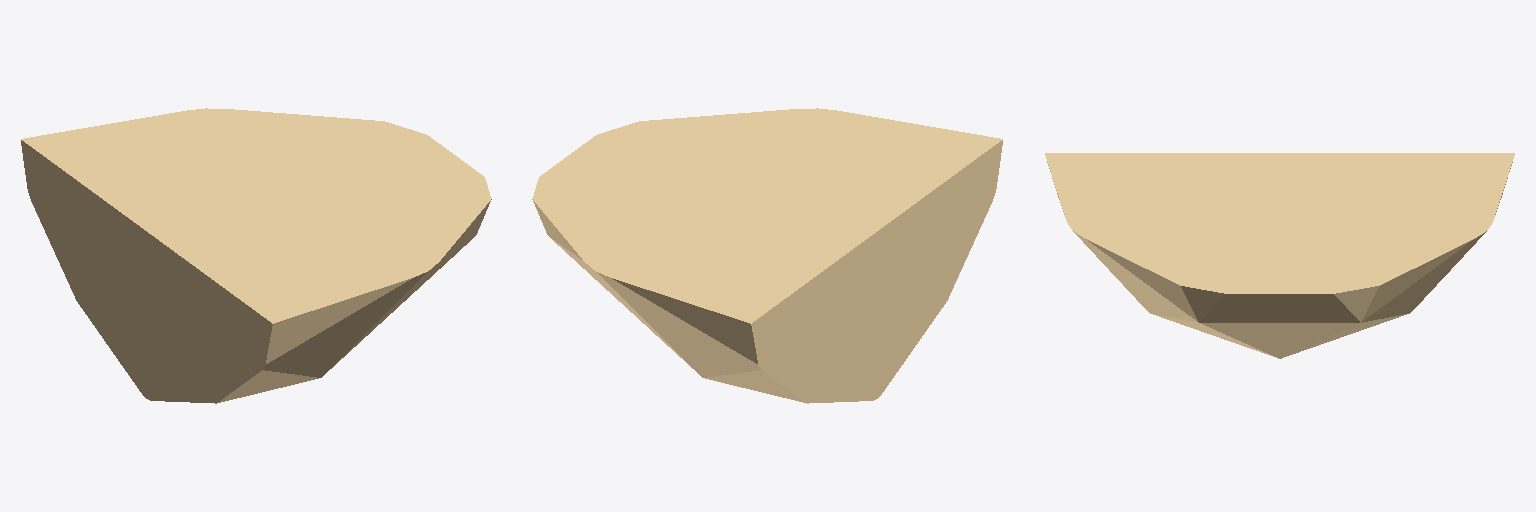
The robot description file, URDF, robot "potato3":
<?xml version="1.0"?>
<robot name="potato3"
       xmlns:xi="http://www.w3.org/2001/XInclude">
  <gazebo>
    <static>false</static>
  </gazebo>
  <link name="nil_link">
    <visual>
      <origin xyz="0 0 0" rpy="0 -0 0"/>
      <geometry>
        <mesh filename="model://potato3/meshes/nil_link_mesh.dae" scale="1 1 1" />
      </geometry>
    </visual>
    <collision>
      <origin xyz="0 0 0" rpy="0 -0 0"/>
      <geometry>
        <mesh filename="model://potato3/meshes/nil_link_mesh.dae" scale="1 1 1" />
      </geometry>
    </collision>
    <inertial>
      <mass value="0.001" />
      <origin xyz="0 0 0" rpy="0 -0 0"/>
      <inertia ixx="1e-03" ixy="0" ixz="0" iyy="1e-03" iyz="0" izz="1e-03"/>
    </inertial>
  </link>
  <gazebo reference="nil_link">
    <mu1>0.9</mu1>
    <mu2>0.9</mu2>
  </gazebo>
</robot>

--- What the picture shows (computed from the rendered views, not written in the file) ---
The picture shows the robot from 3 angles, left to right: view 1: azimuth 30°, elevation 25°; view 2: azimuth 150°, elevation 25°; view 3: azimuth 270°, elevation 25°; orthographic projection.
Robot: potato3 — 1 links, 0 joints (none); root link nil_link; default pose: every joint at zero.
Links seen in each view (by area): view 1: nil_link; view 2: nil_link; view 3: nil_link.
Boxes of the visible links, x1,y1,x2,y2 form: nil_link: (21, 108, 491, 403); nil_link: (532, 108, 1002, 403); nil_link: (1045, 153, 1514, 358).
Size in the robot's own frame: 0.0383 by 0.054 by 0.0198 metres.
1 mesh visuals loaded from 1 distinct referenced files (1 Collada DAE).